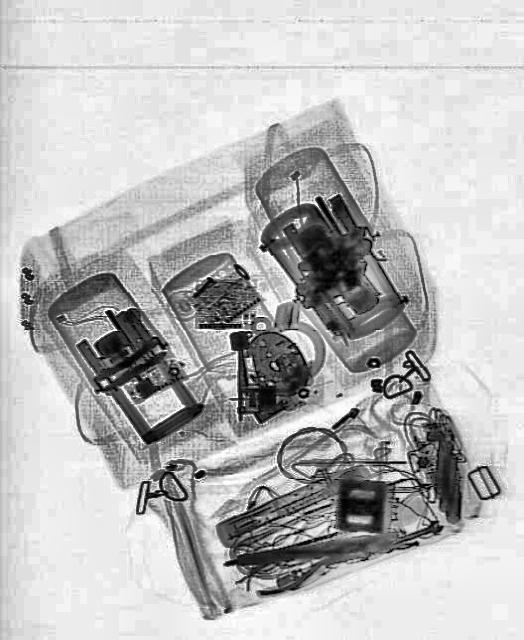Pliers: (242, 522, 380, 602)
